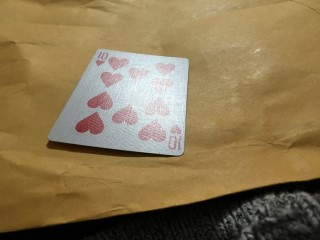TenOfHearts: (47, 47, 190, 156)
